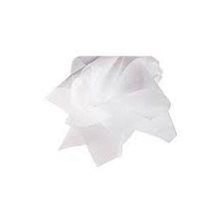tissue: (41, 50, 183, 172)
